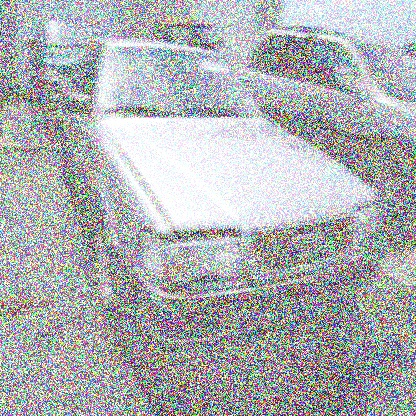Vehicle: (55, 38, 391, 356)
